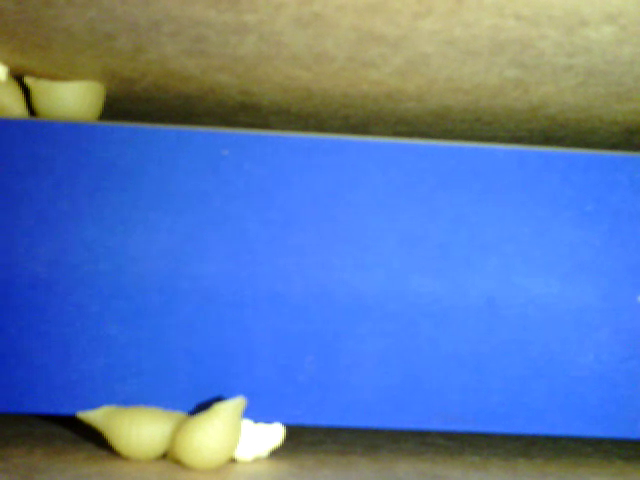shell: (76, 401, 195, 469), (169, 390, 246, 472), (20, 75, 110, 123)
